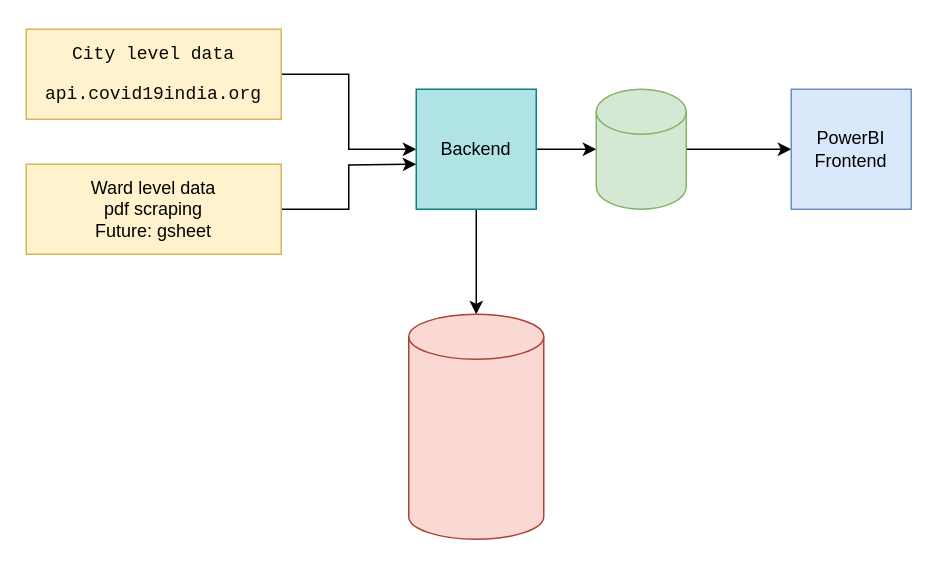
This 938x566 diagram has some shape labels left out. The centre of each missing label's shape, as x and y in pixels:
"Google Sheet" goes at pixel 640 148.
"Legacy Storage Dropbox" goes at pixel 475 426.
